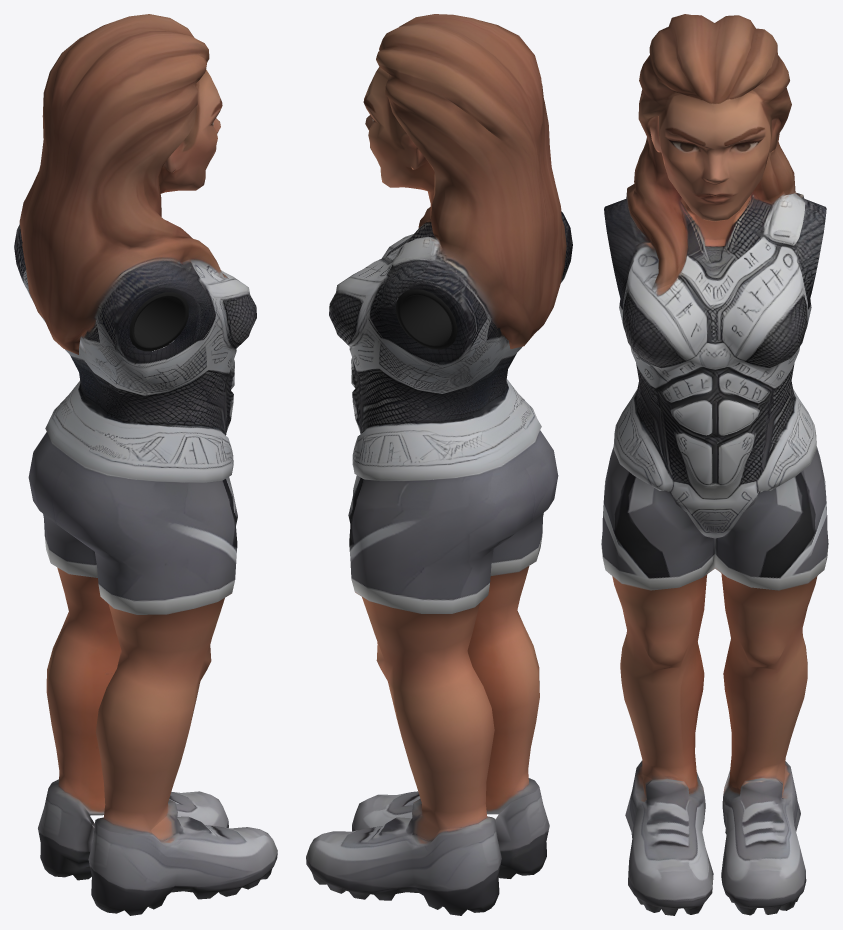
File: fuzeball_womanMaria.glb
The picture shows the model from 3 angles, left to right: view 1: azimuth 30°, elevation 25°; view 2: azimuth 150°, elevation 25°; view 3: azimuth 270°, elevation 25°; orthographic projection.
Visible parts, largest first — view 1: maria; view 2: maria; view 3: maria.
Part boxes in pixels (x1,y1,x2,y2): maria: (14,14,277,915); maria: (306,14,572,915); maria: (601,14,828,915).
Size of the model in its own units: 3.13 by 11.99 by 2.92.
Materials: 4 (3 with a texture image).
